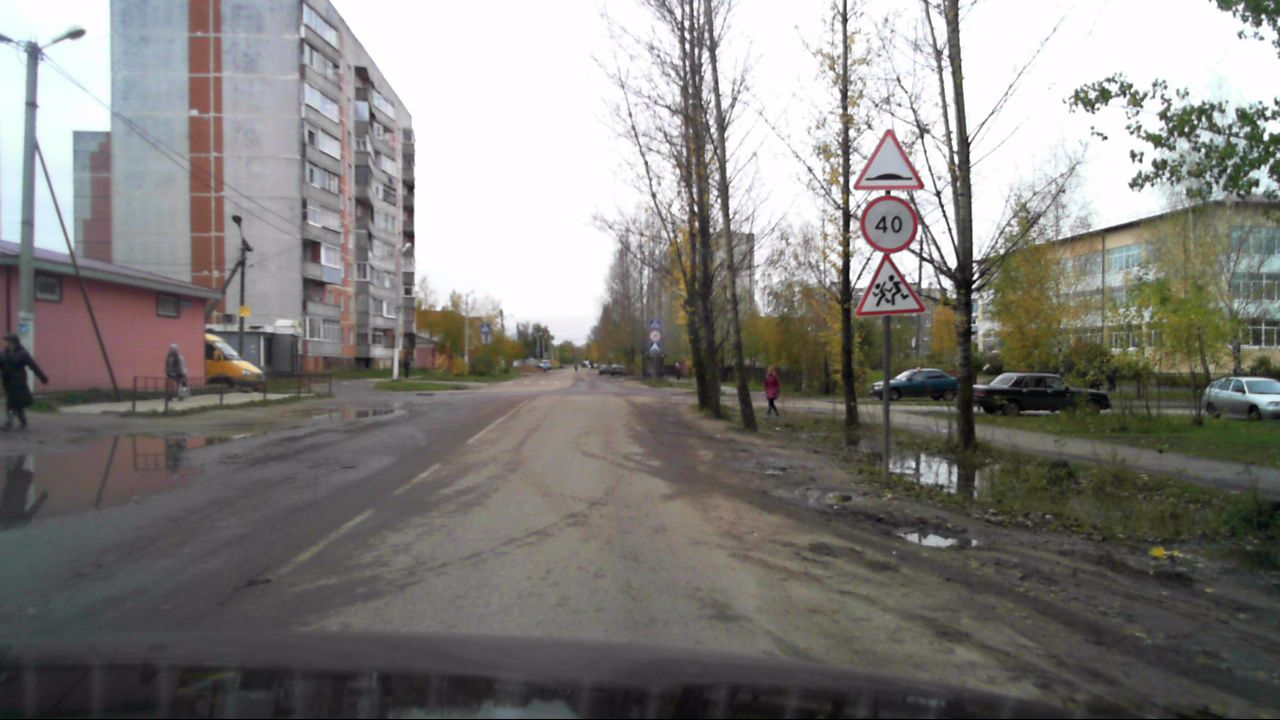speed_warning_40: (860, 195, 919, 253)
